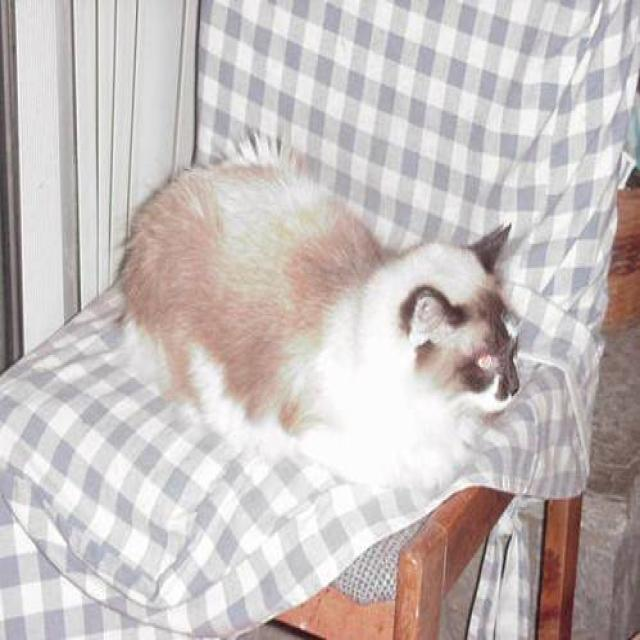cat: (114, 128, 521, 500)
